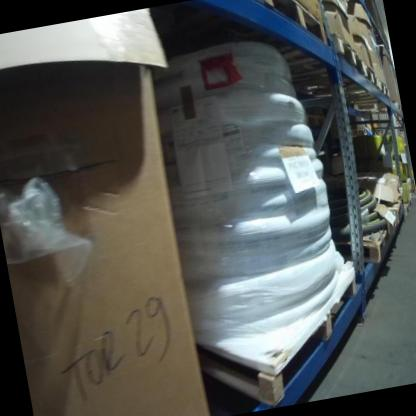pallet: (184, 244, 377, 416), (331, 200, 408, 277), (230, 0, 330, 59), (326, 26, 368, 80), (398, 192, 416, 223), (364, 62, 378, 87), (376, 75, 389, 99), (390, 98, 402, 118)
